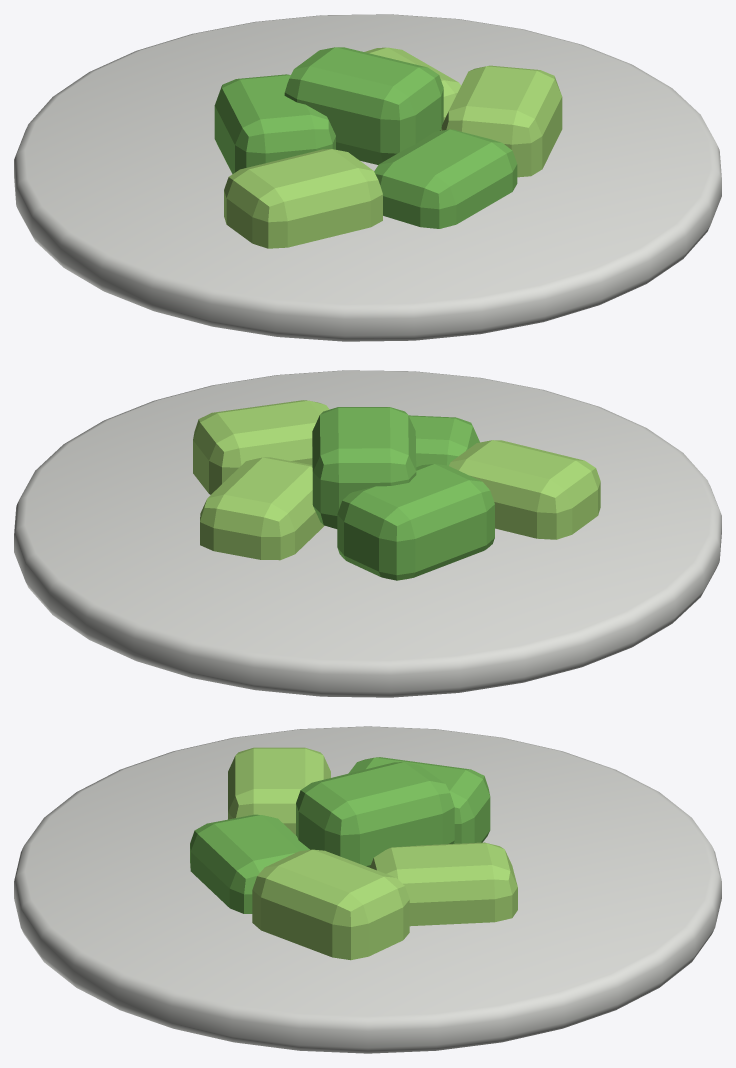
The model's file is CutVegetables.fbx.
3 renders of one model, top to bottom at view 1: azimuth 30°, elevation 25°; view 2: azimuth 150°, elevation 25°; view 3: azimuth 270°, elevation 25°, orthographic.
Visible parts, largest first — view 1: IconDisc, ChoppedPiece_05, ChoppedPiece_00, ChoppedPiece_01, ChoppedPiece_02, ChoppedPiece_03, ChoppedPiece_04; view 2: IconDisc, ChoppedPiece_03, ChoppedPiece_00, ChoppedPiece_04, ChoppedPiece_05, ChoppedPiece_02, ChoppedPiece_01; view 3: IconDisc, ChoppedPiece_02, ChoppedPiece_05, ChoppedPiece_04, ChoppedPiece_01, ChoppedPiece_00, ChoppedPiece_03.
Boxes of the visible parts, left/top/right/bottom form: IconDisc: left=14, top=14, right=721, bottom=341; ChoppedPiece_05: left=284, top=47, right=443, bottom=164; ChoppedPiece_00: left=224, top=149, right=382, bottom=248; ChoppedPiece_01: left=374, top=129, right=517, bottom=228; ChoppedPiece_02: left=441, top=65, right=562, bottom=177; ChoppedPiece_03: left=214, top=74, right=335, bottom=174; ChoppedPiece_04: left=364, top=47, right=460, bottom=130; IconDisc: left=14, top=370, right=721, bottom=697; ChoppedPiece_03: left=337, top=464, right=494, bottom=580; ChoppedPiece_00: left=449, top=440, right=600, bottom=539; ChoppedPiece_04: left=200, top=457, right=324, bottom=560; ChoppedPiece_05: left=312, top=407, right=416, bottom=528; ChoppedPiece_02: left=193, top=400, right=329, bottom=494; ChoppedPiece_01: left=408, top=415, right=479, bottom=466; IconDisc: left=14, top=726, right=721, bottom=1053; ChoppedPiece_02: left=252, top=849, right=409, bottom=960; ChoppedPiece_05: left=296, top=762, right=454, bottom=867; ChoppedPiece_04: left=369, top=842, right=517, bottom=926; ChoppedPiece_01: left=190, top=814, right=309, bottom=913; ChoppedPiece_00: left=228, top=747, right=330, bottom=834; ChoppedPiece_03: left=348, top=757, right=490, bottom=843.
Bounding box in the file's own units: 96 × 19 × 96.
